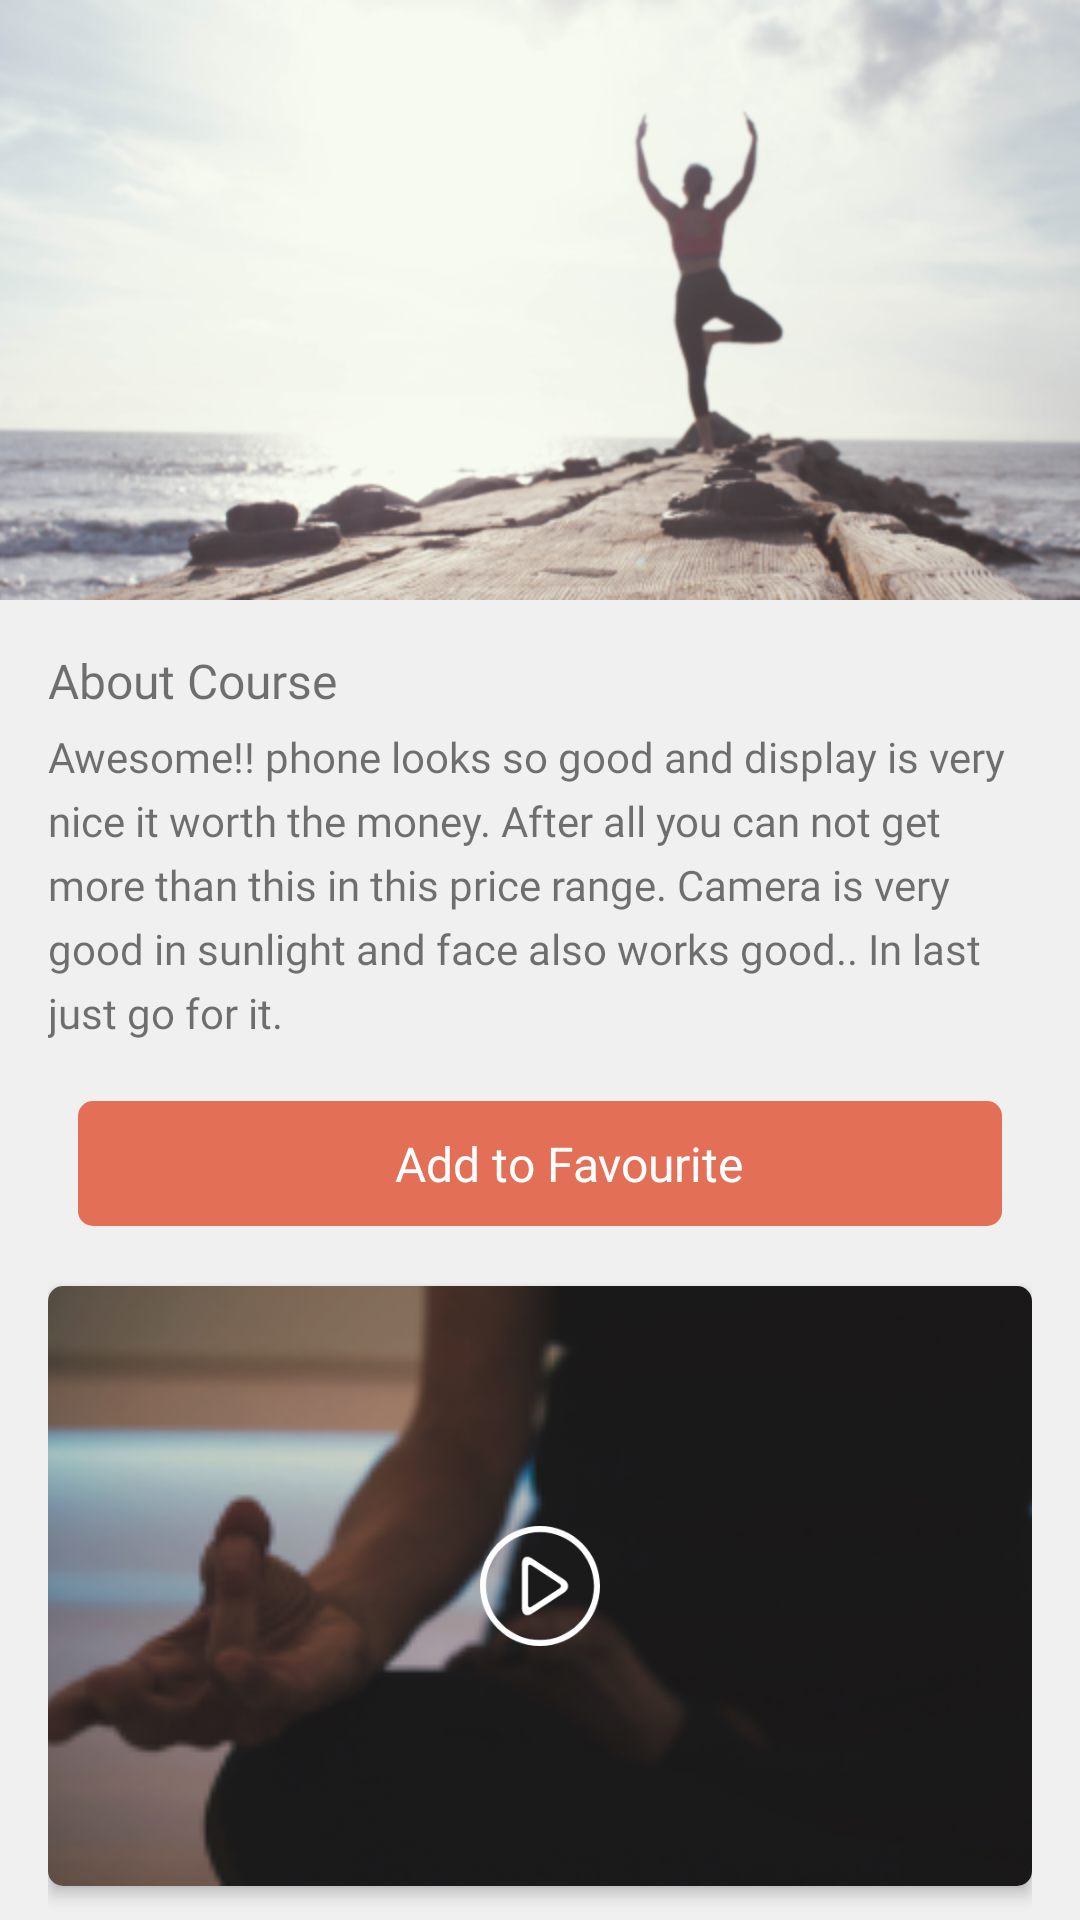

Screen size 1080w x 1920h. Icon name, then its center in pixels as (x,y):
exo play: (540,1586)
